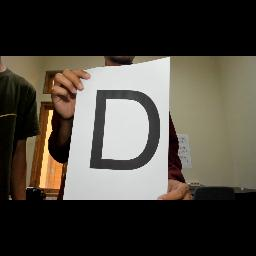d: (86, 85, 166, 173)
